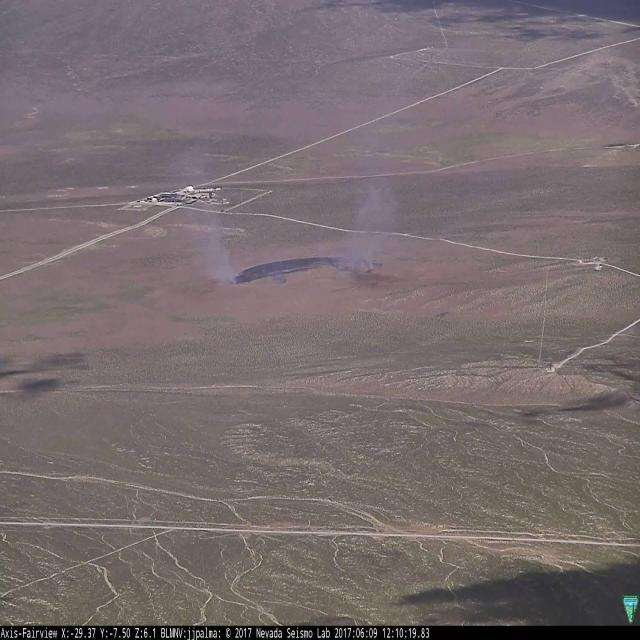smoke: (172, 142, 242, 285), (316, 170, 397, 273)
